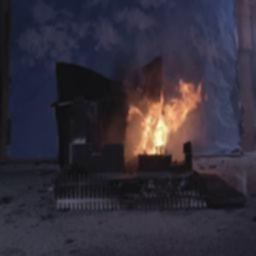fire: (123, 66, 207, 158)
